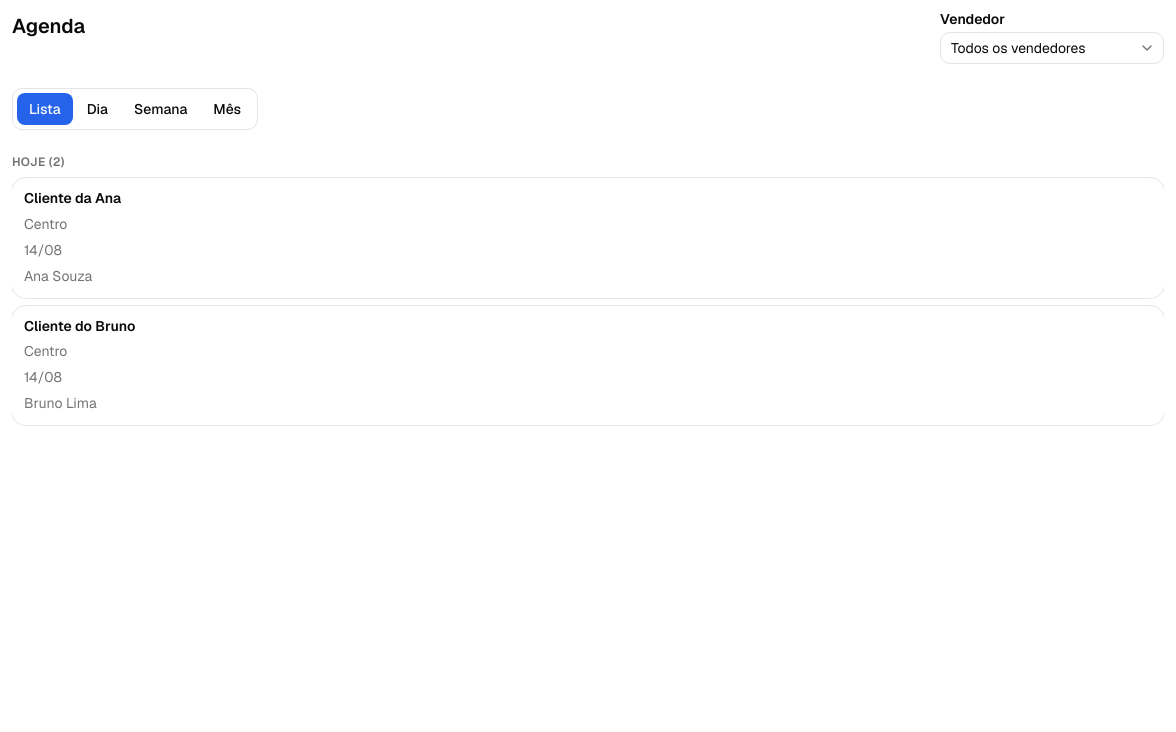
Test: Agenda2List + Agenda2Calendario (integração, plano 32-07) › filtro-nas-duas-visoes (D-30): o filtro Vendedor do Supervisor estreita a Lista e o Mês
expect the heading "Hoje (2)" is shown: met, box [12,154,65,170]
Click the button "Mês". click: (227, 109)
box: [201,93,253,125]
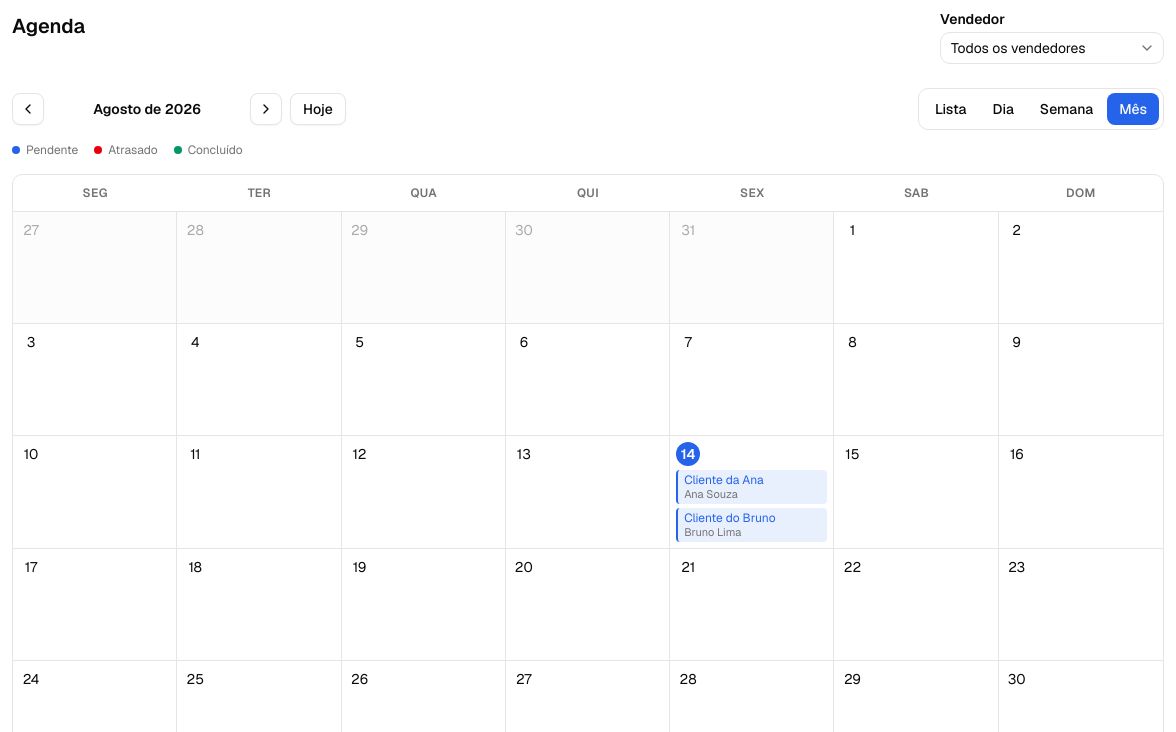
expect the text "Cliente da Ana" is shown: met, box [684,472,764,488]
expect the text "Cliente do Bruno" is shown: met, box [684,510,776,526]
Click the dropdown labelled "vendedor". click: (1052, 48)
box: [940,32,1164,64]
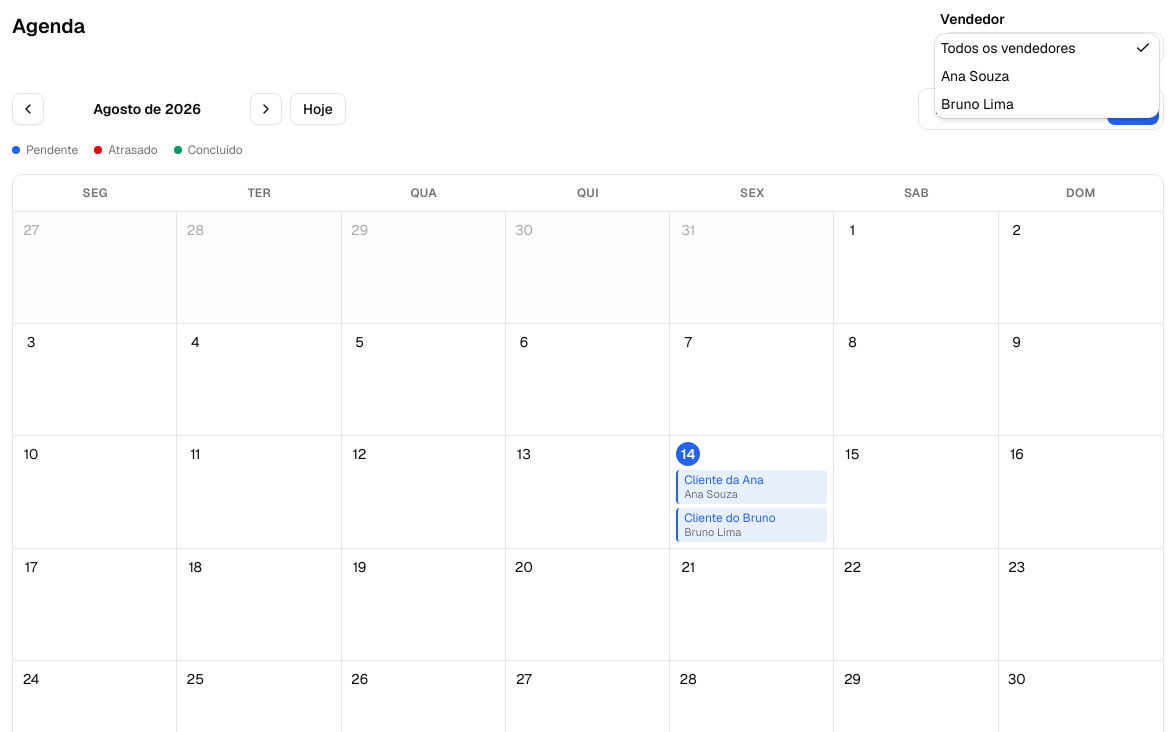
Click the option "Bruno Lima". click: (977, 104)
box: [941,95,1014,113]
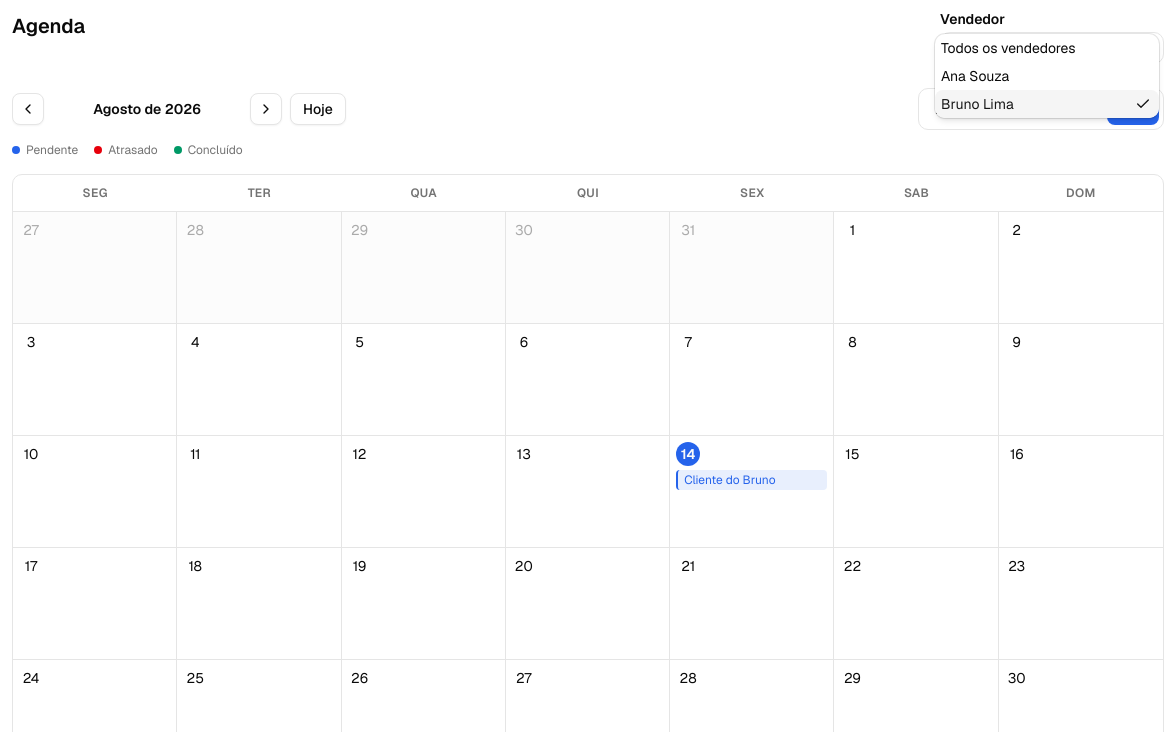
expect the text "Cliente do Bruno" is shown: met, box [684,472,776,488]
expect the text "Cliente da Ana" is gone: met
Click the button "Lista". click: (951, 109)
box: [923,93,978,125]
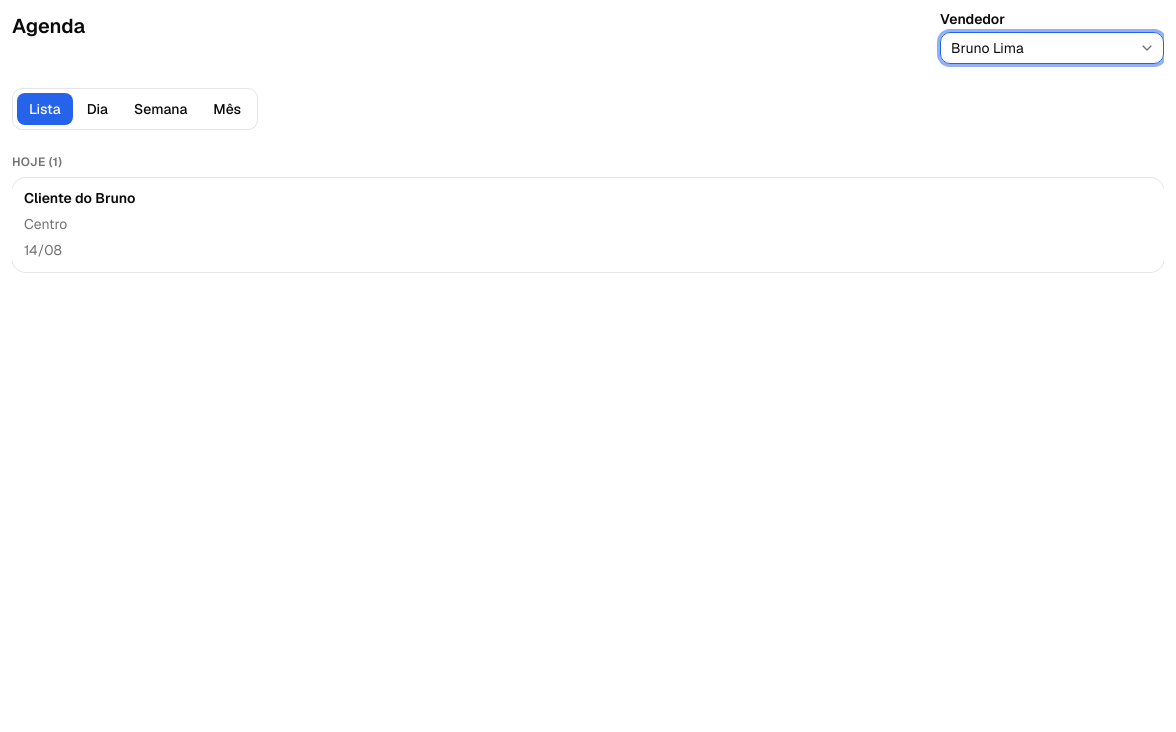
expect the text "Cliente do Bruno" is shown: met, box [24,189,136,207]
expect the heading "Hoje (1)" is shown: met, box [12,154,62,170]
